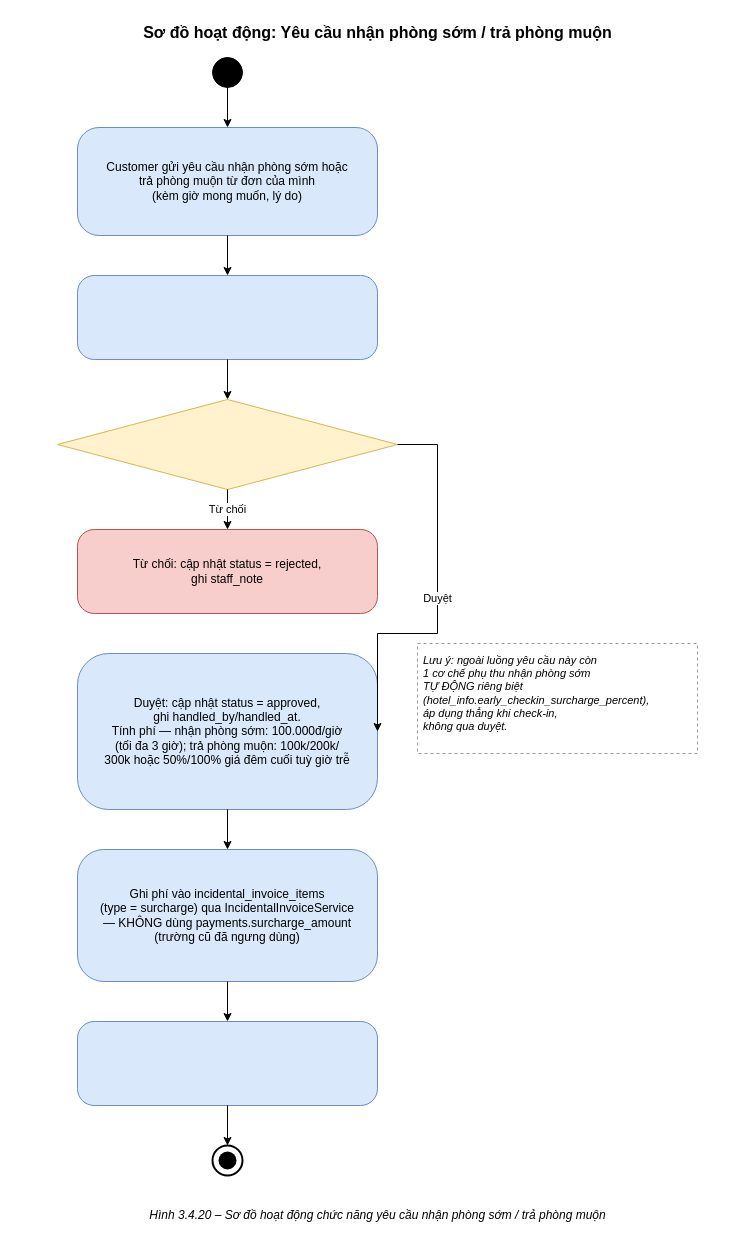
Some shapes in this 754 by 1247 pixel diagram are drawn without their labels. The centre of each missing label's shape, as x and y in pixels:
"Staff/Admin duyệt?" belongs at (x=227, y=444).
"Tạo early_checkin_requests / late_checkout_requests (status = pending)" belongs at (x=227, y=317).
"Tổng hợp vào hoá đơn phát sinh, thu khi check-out" belongs at (x=227, y=1063).
